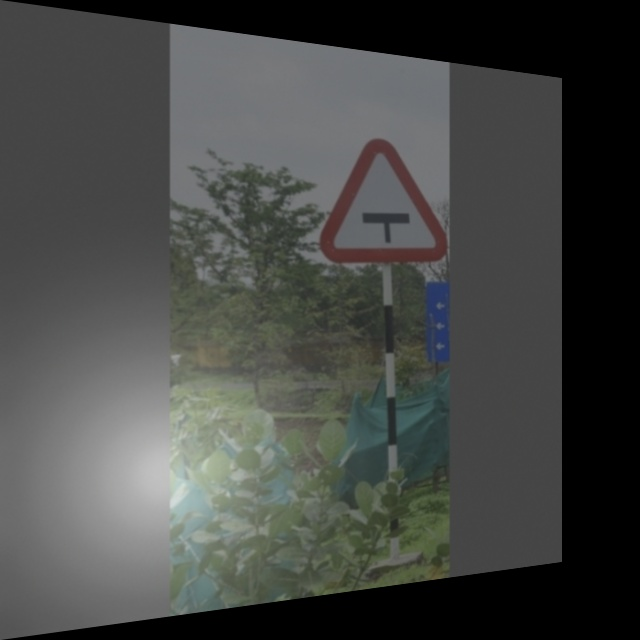T_Intersection: (326, 132, 441, 260)
